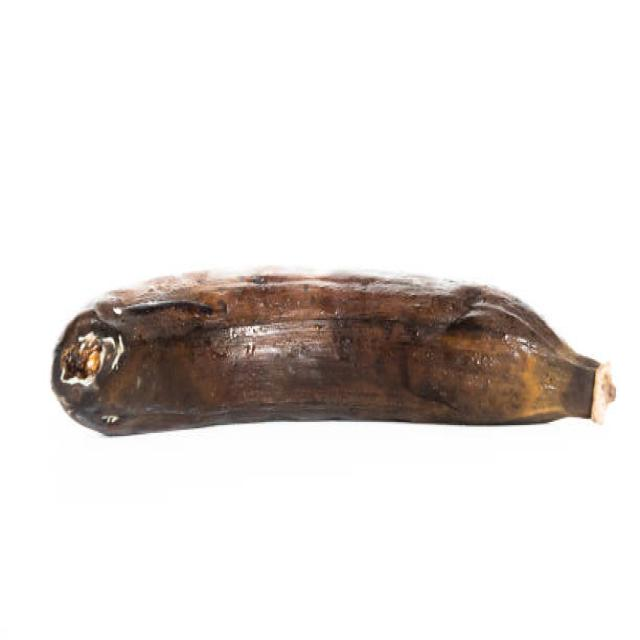Rotten: (51, 256, 618, 438)
